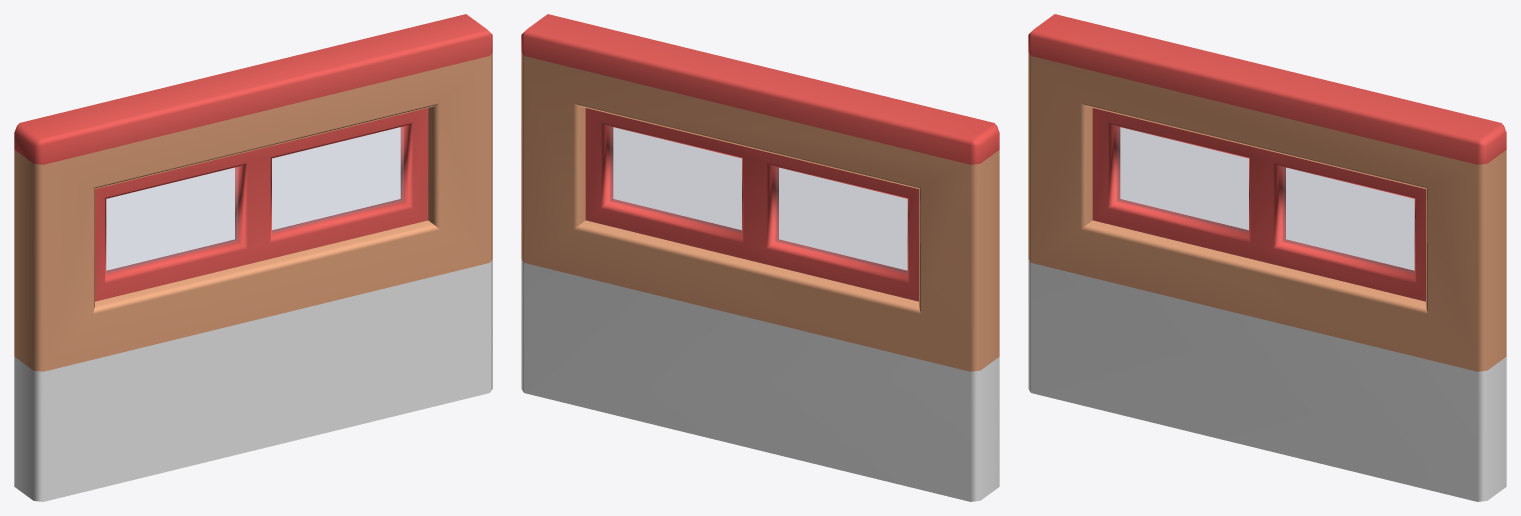
File: Decor_wall_window_A.fbx
The picture shows the model from 3 angles, left to right: view 1: azimuth 30°, elevation 25°; view 2: azimuth 150°, elevation 25°; view 3: azimuth 330°, elevation 25°; orthographic projection.
Parts seen in each view (by area): view 1: Decor_wall_window_A; view 2: Decor_wall_window_A; view 3: Decor_wall_window_A.
Part boxes in pixels (left/top/right/bottom): Decor_wall_window_A: left=14, top=14, right=492, bottom=501; Decor_wall_window_A: left=521, top=14, right=999, bottom=501; Decor_wall_window_A: left=1028, top=14, right=1506, bottom=501.
Size of the model in its own units: 527 by 397 by 52.55.
